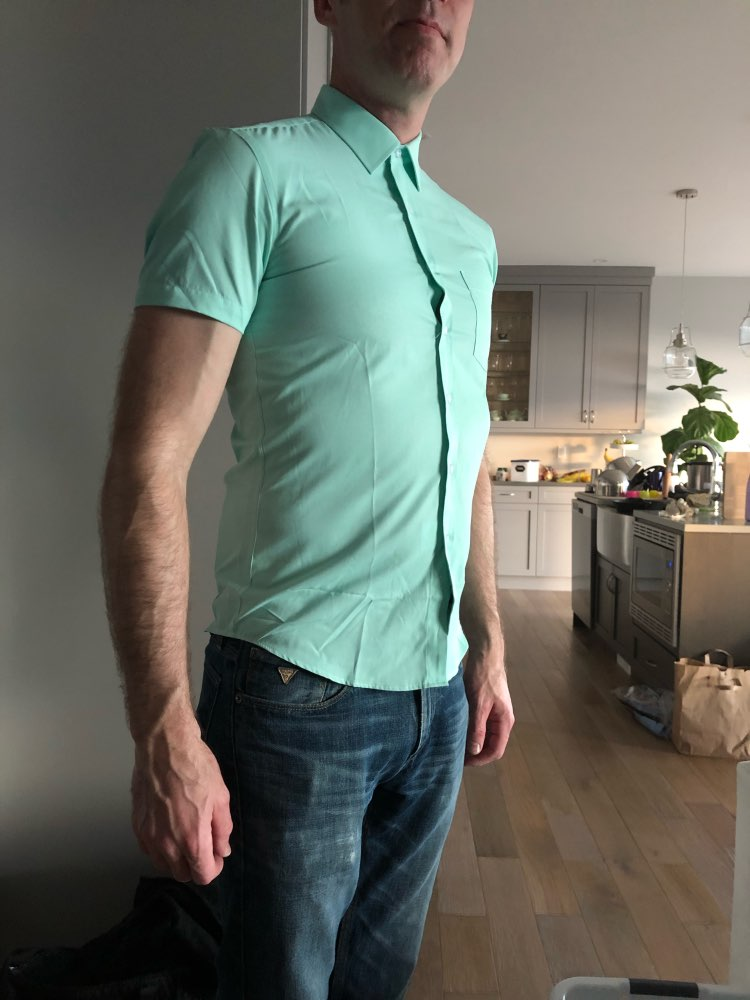shirts: (160, 84, 496, 704)
